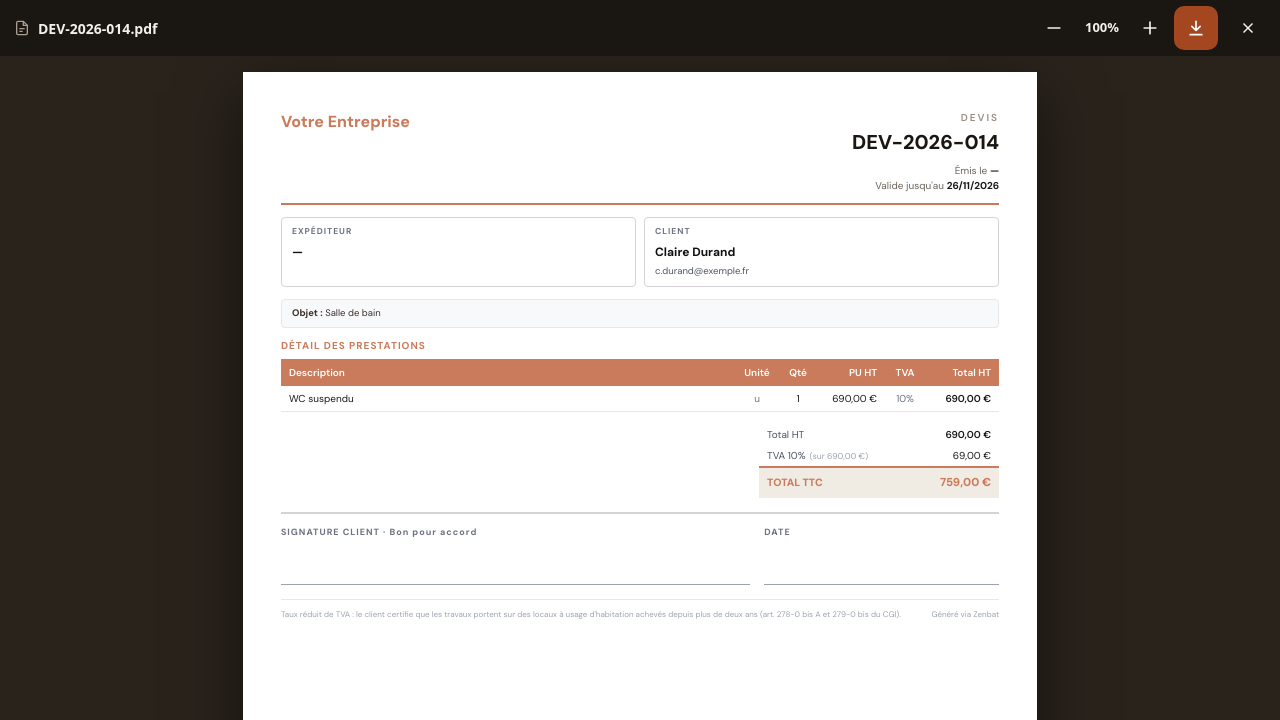
Test: Fenêtre PDF › échec de génération : message dans l'écran, pas d'alert()
Click the button named "Ouvrir le PDF". click: (1196, 28)
box: [1174,6,1218,50]
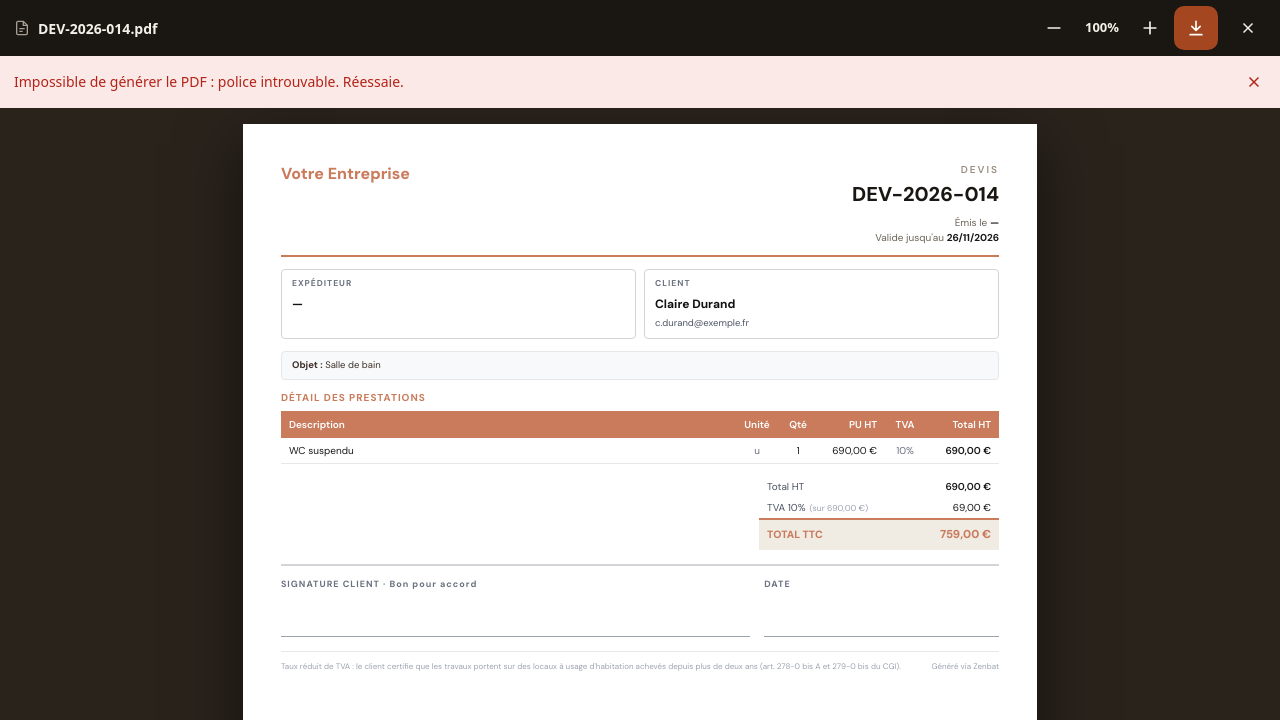
Expected: the message shows "Impossible de générer le PDF : police introuvable", [14,72,404,91]
